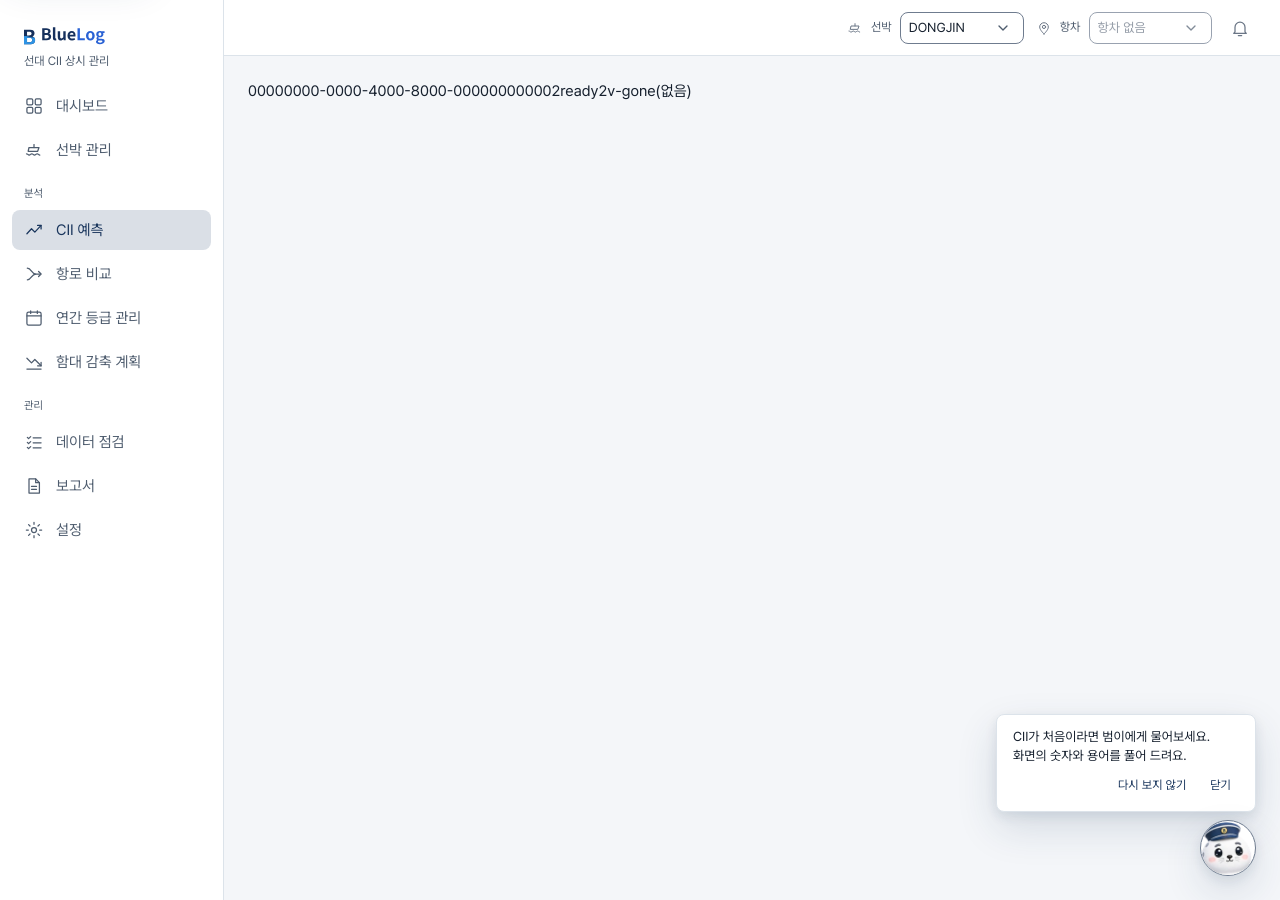
it: 제목 갱신과 초점 이동은 따로 돈다 (#2128 ⑴) › 화면을 옮기면 종전대로 본문이 초점을 받는다 — 지운 것은 언어 쪽뿐이다
Expected: the text with test id "vessels-state" reads "ready", [560, 82, 598, 100]
What coordinates should you click on to do the following:
click the link "선박 관리"
I would click on:
 (68, 150)
Its box is [24, 140, 112, 160].
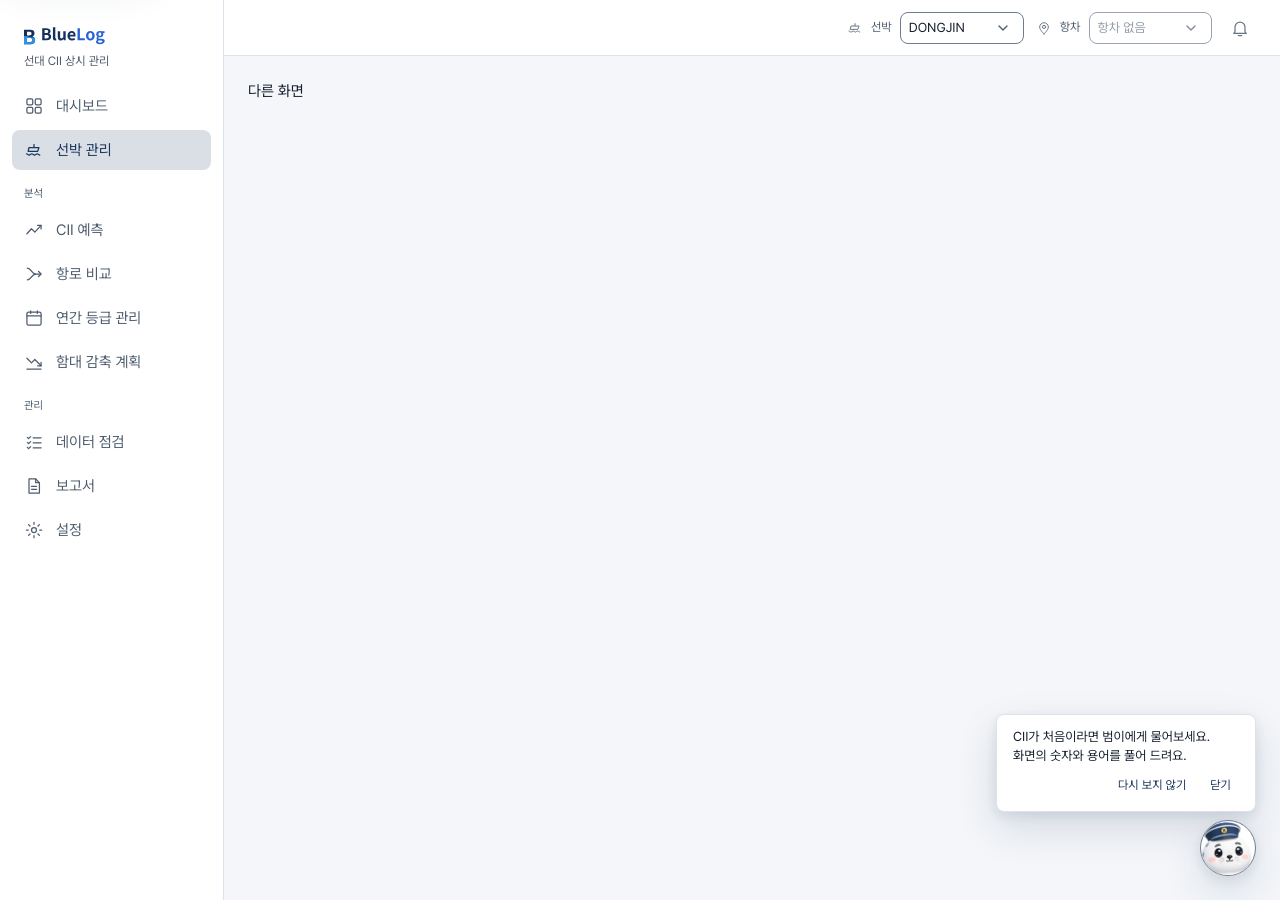
Expected: the text "다른 화면" is shown, [248, 82, 304, 100]
